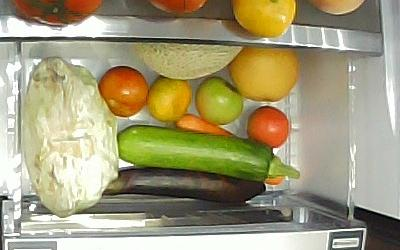cabbage: (23, 58, 118, 217)
carrot: (176, 114, 282, 184)
eggplant: (101, 167, 266, 203)
melon: (132, 41, 243, 80)
pear: (229, 46, 298, 102)
prune: (98, 65, 149, 118)
tangerine: (146, 75, 192, 123)
tomato: (196, 77, 243, 126), (246, 106, 291, 150)
zucchini: (117, 125, 301, 181)
